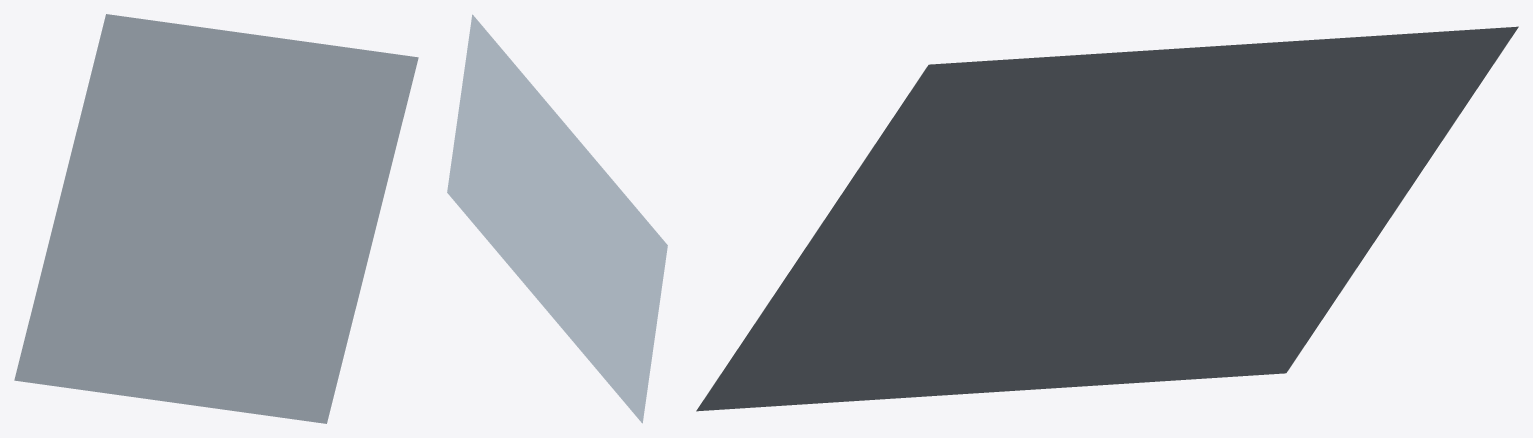
File: lunotriquetral-interosseous-ligament-l.glb
3 views of the same model, side by side, from view 1: azimuth 30°, elevation 25°; view 2: azimuth 150°, elevation 25°; view 3: azimuth 270°, elevation 25° (orthographic). The views are drawn at different scales.
Parts seen in each view (by area): view 1: Lunotriquetral interosseous ligament.l; view 2: Lunotriquetral interosseous ligament.l; view 3: Lunotriquetral interosseous ligament.l.
Part boxes in pixels (box(x1,y1,x2,y2)): Lunotriquetral interosseous ligament.l: box(14, 14, 418, 423); Lunotriquetral interosseous ligament.l: box(447, 14, 667, 423); Lunotriquetral interosseous ligament.l: box(696, 26, 1518, 411).
Size of the model in its own units: 0.00182 by 0.00188 by 0.00249.
